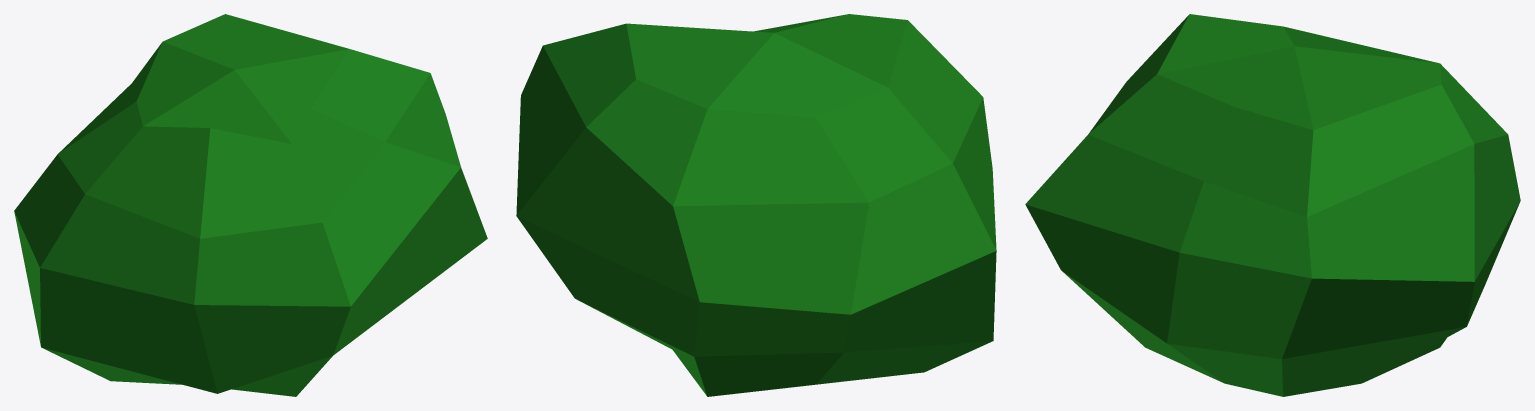
Rendered from bush2.fbx.
The picture shows the model from 3 angles, left to right: view 1: azimuth 30°, elevation 25°; view 2: azimuth 150°, elevation 25°; view 3: azimuth 270°, elevation 25°; orthographic projection. The views are drawn at different scales.
Parts seen in each view (by area): view 1: bush_2; view 2: bush_2; view 3: bush_2.
Part boxes in pixels (bbox=[...]): bush_2: bbox=[14, 14, 487, 396]; bush_2: bbox=[516, 14, 996, 396]; bush_2: bbox=[1025, 14, 1520, 396].
Bounding box in the file's own units: 2.39 × 1.53 × 2.23.
